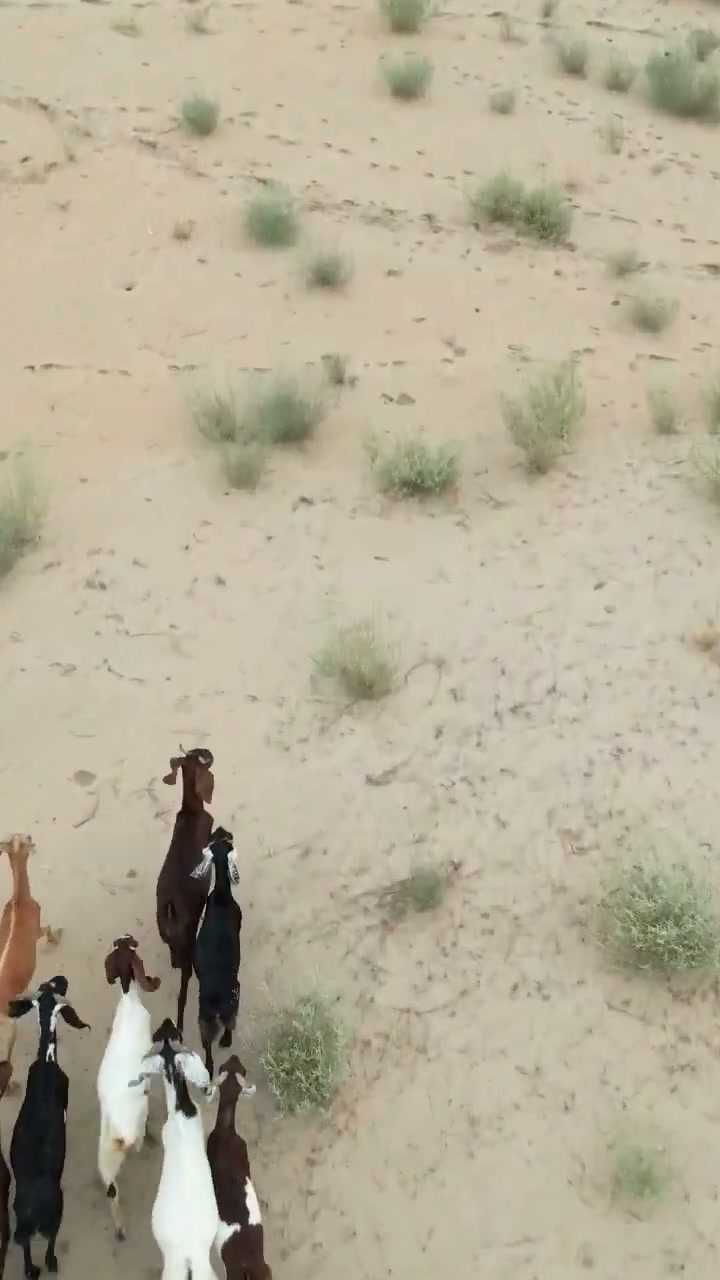animal_footprint: (243, 1144, 424, 1279)
